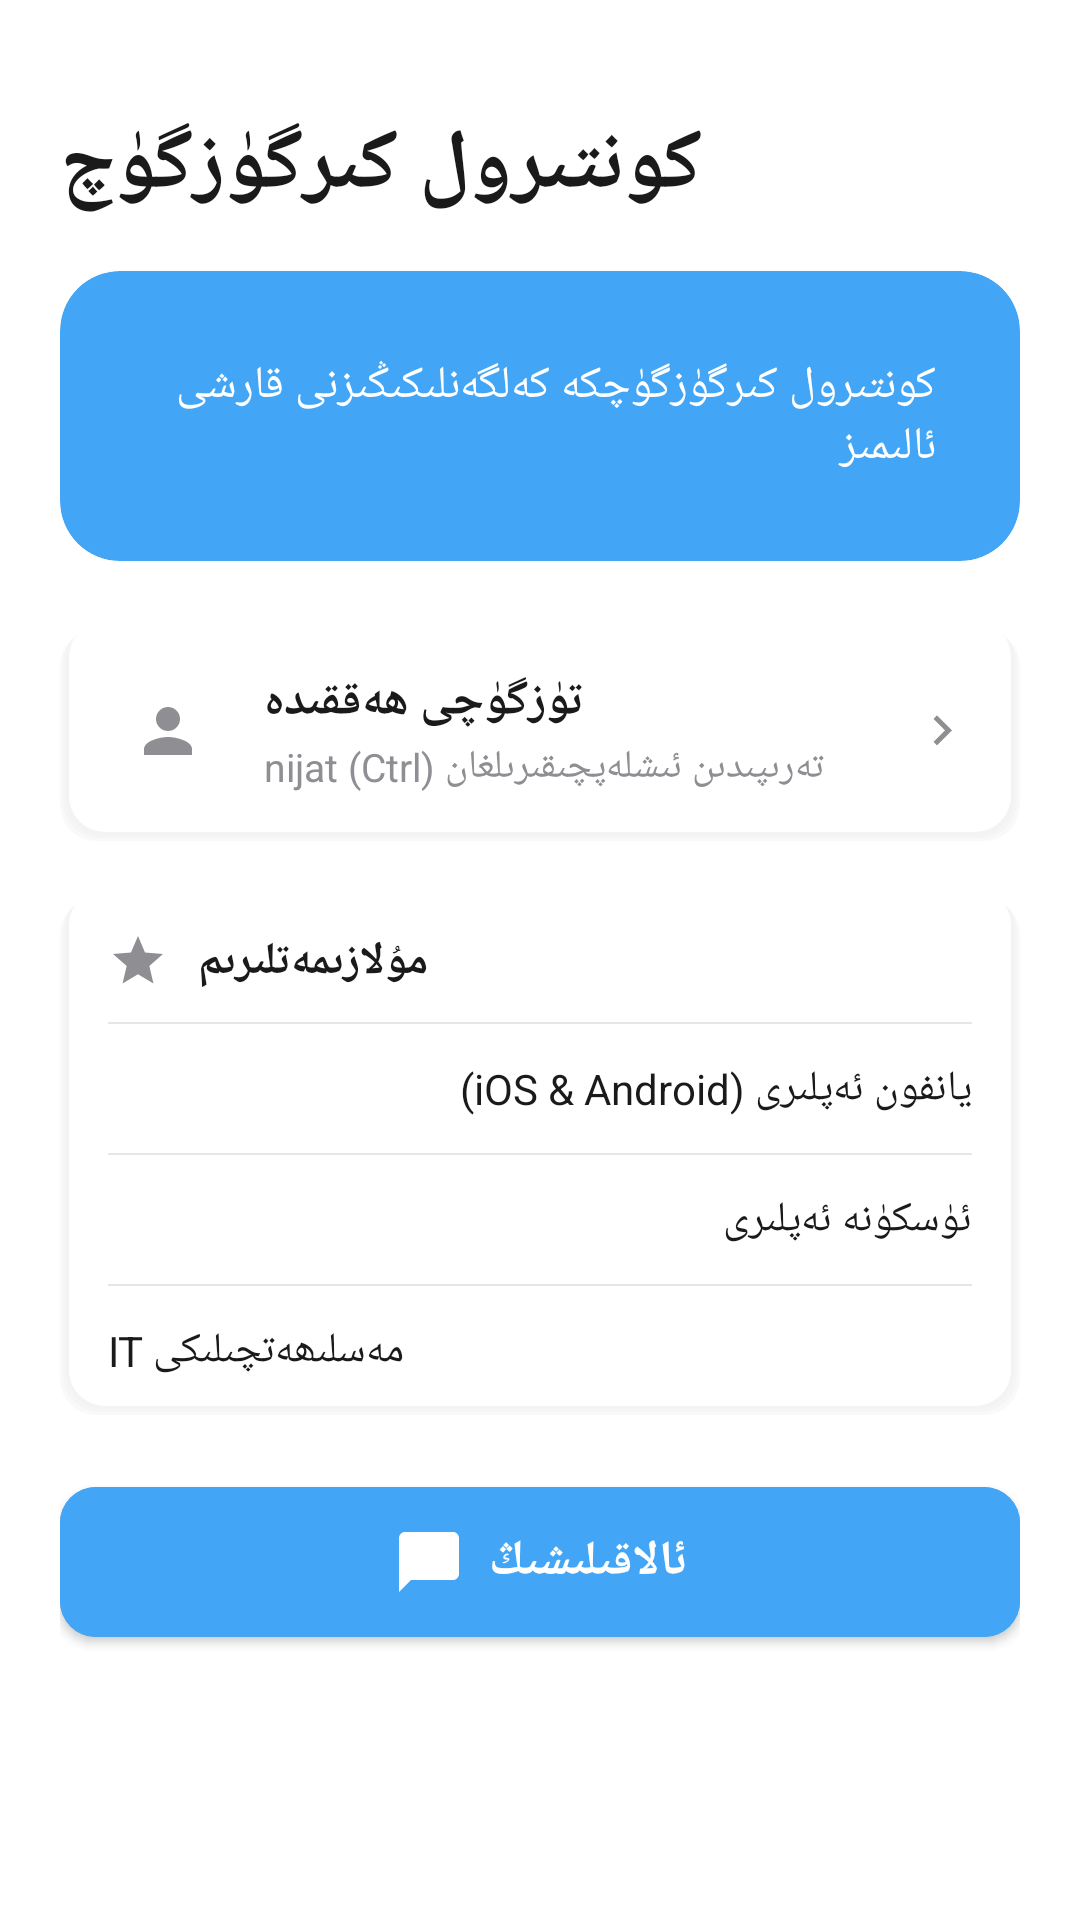

Where icons sit on this 1080x1920 app screen, as box(x1, y1, x2, y2):
chevron right: box(934, 716, 952, 745)
person: box(144, 707, 192, 755)
star: box(113, 937, 163, 983)
